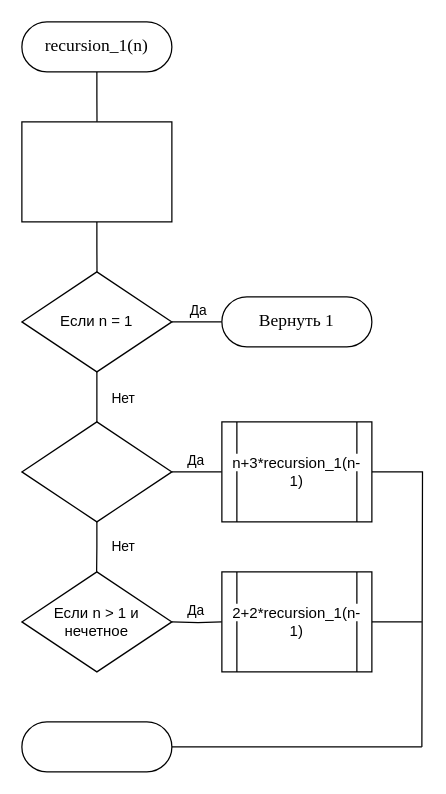
This 446x794 diagram has some shape labels left out. Here are the shapes that lost their labels. From the top down, the box of each, then its label:
(21, 121, 172, 222): Увеличение на 1 счётчика кол-ва вызовов функции
(21, 421, 172, 522): Если n четное
(21, 721, 172, 772): Конец
